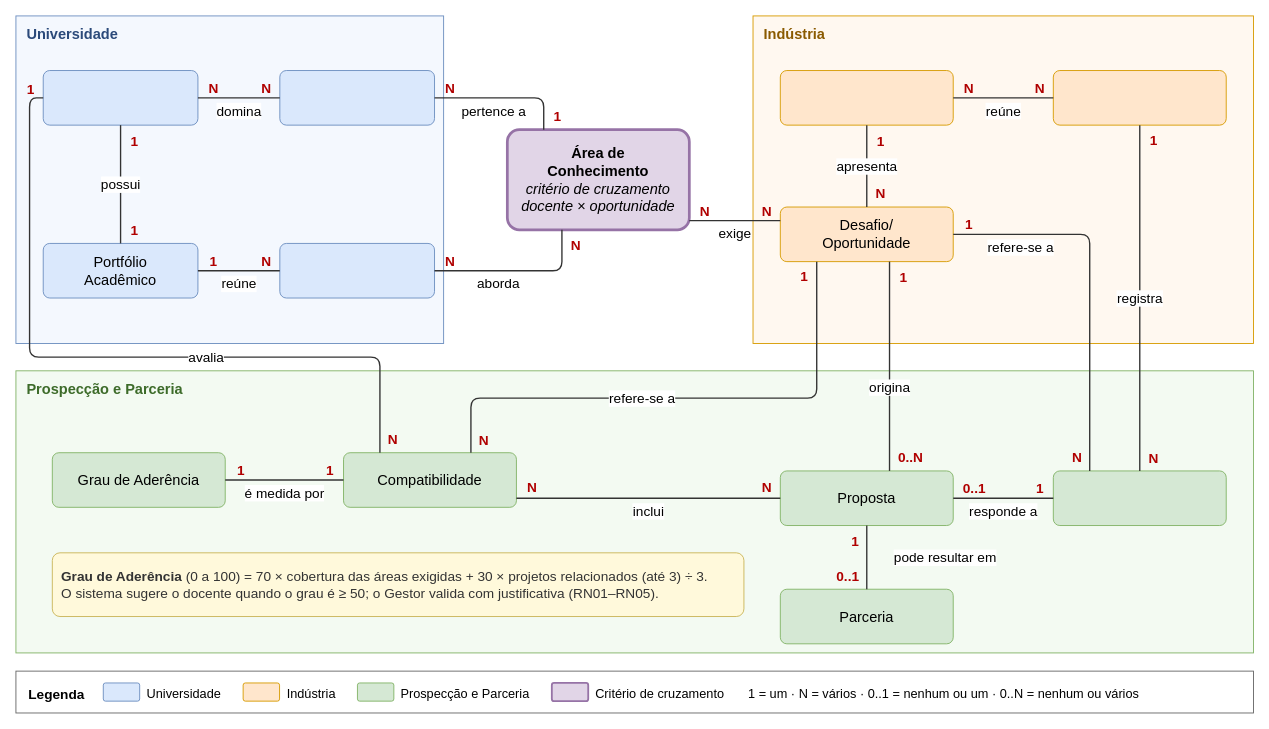
The diagram is 1269 pixels wide and 729 high, and some of its shapes have lost their labels. Here are the shapes that lost their labels. From the top down, the centre of each, then its label:
At (x=120, y=97): "Docente".
At (x=357, y=97): "Expertise".
At (x=866, y=97): "Setor Industrial".
At (x=1139, y=97): "Empresa".
At (x=357, y=270): "Projeto Acadêmico".
At (x=1139, y=498): "Manifestação de Interesse".
